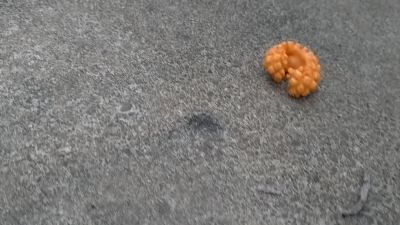eggs: (264, 39, 324, 99)
